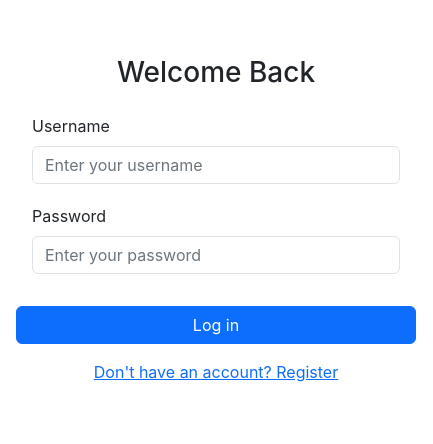
Test: Login Component › Login Flow › shows error message for invalid credentials
This screenshot has width=433, height=444.
In the field labelled "Username": point(216, 165) [32,146,400,184], type "wronguser"
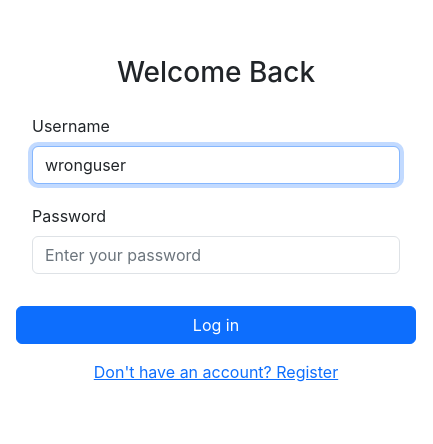
In the password field labelled "Password": point(216, 255) [32,236,400,274], type "wrongpass"
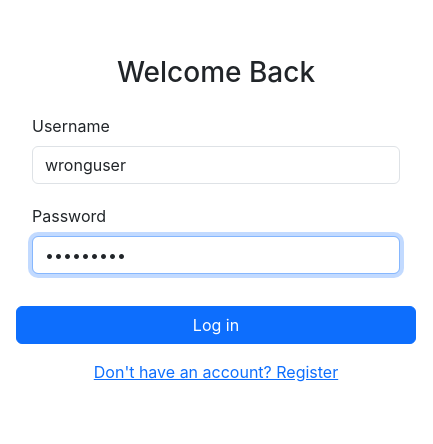
Click the button "Log in": point(216, 325) [16,306,416,344]
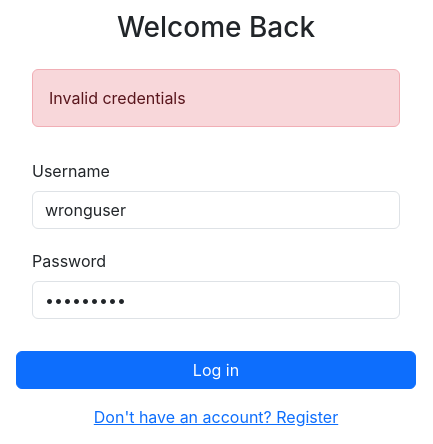
Expected: the text "Invalid credentials" is shown, [32,69,400,127]
